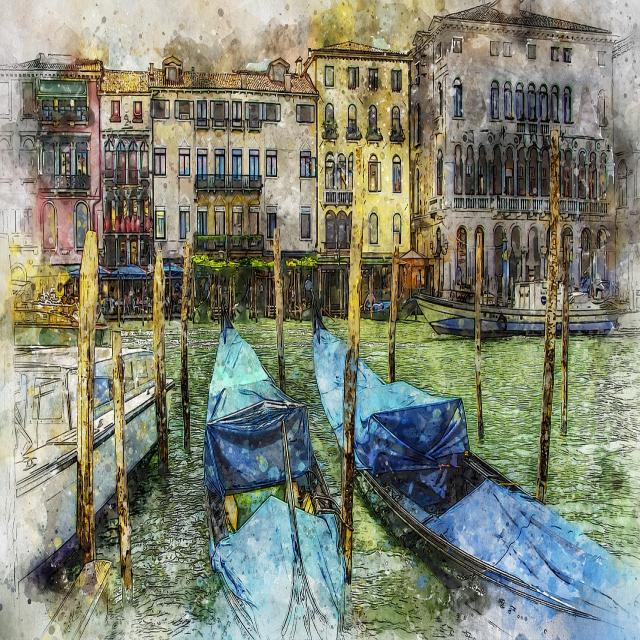boat: (302, 274, 640, 640), (194, 281, 348, 640)
